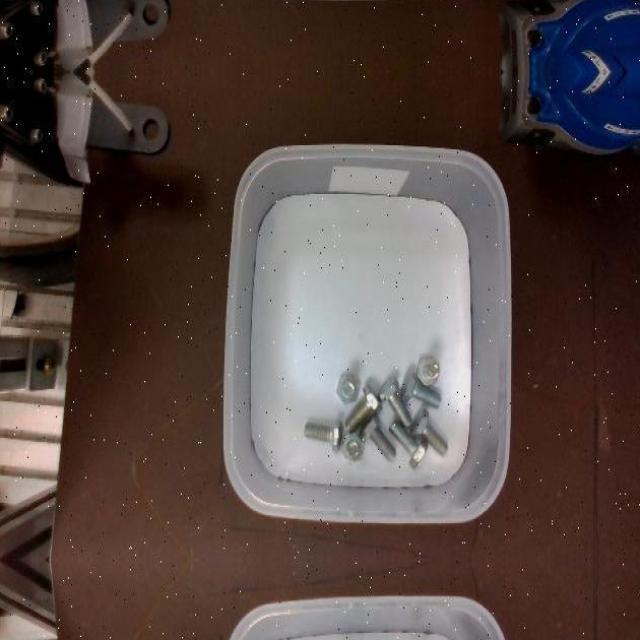screw: (388, 420, 429, 470), (377, 374, 413, 425), (343, 384, 382, 431), (409, 408, 448, 454), (360, 412, 397, 460), (401, 372, 443, 407), (304, 418, 342, 452), (340, 432, 365, 462), (417, 356, 441, 386), (337, 372, 360, 403)
